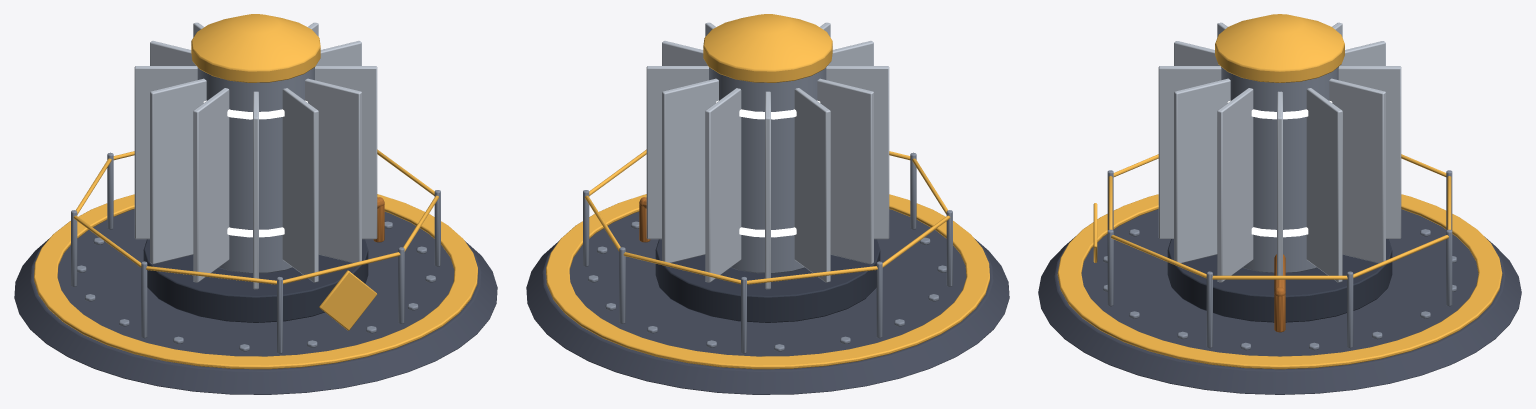
Rendered from rtg.fbx.
3 renders of one model, left to right at view 1: azimuth 30°, elevation 25°; view 2: azimuth 150°, elevation 25°; view 3: azimuth 270°, elevation 25°, orthographic.
Visible parts, largest first — view 1: rtg_Koerper; view 2: rtg_Koerper; view 3: rtg_Koerper.
Boxes of the visible parts, bbox=[...] form: rtg_Koerper: bbox=[14, 14, 497, 394]; rtg_Koerper: bbox=[526, 14, 1009, 394]; rtg_Koerper: bbox=[1038, 14, 1521, 394].
Size of the model in its own units: 4.09 by 2.51 by 4.09.
